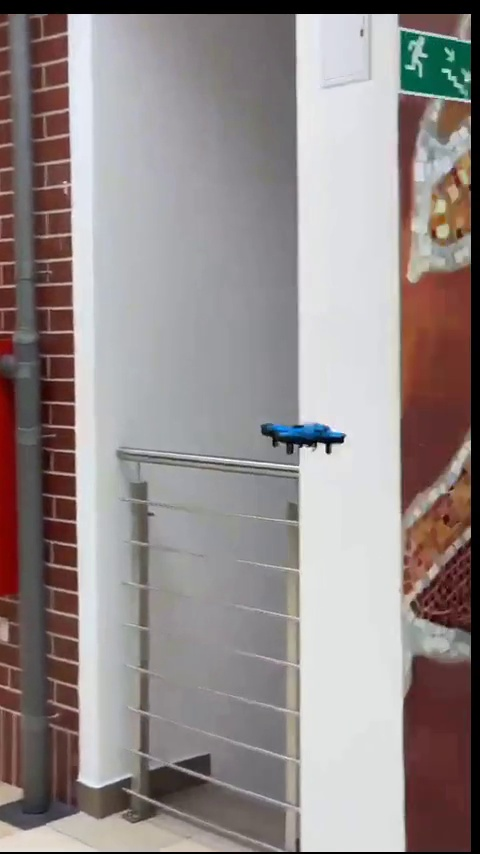drone: (262, 414, 339, 457)
